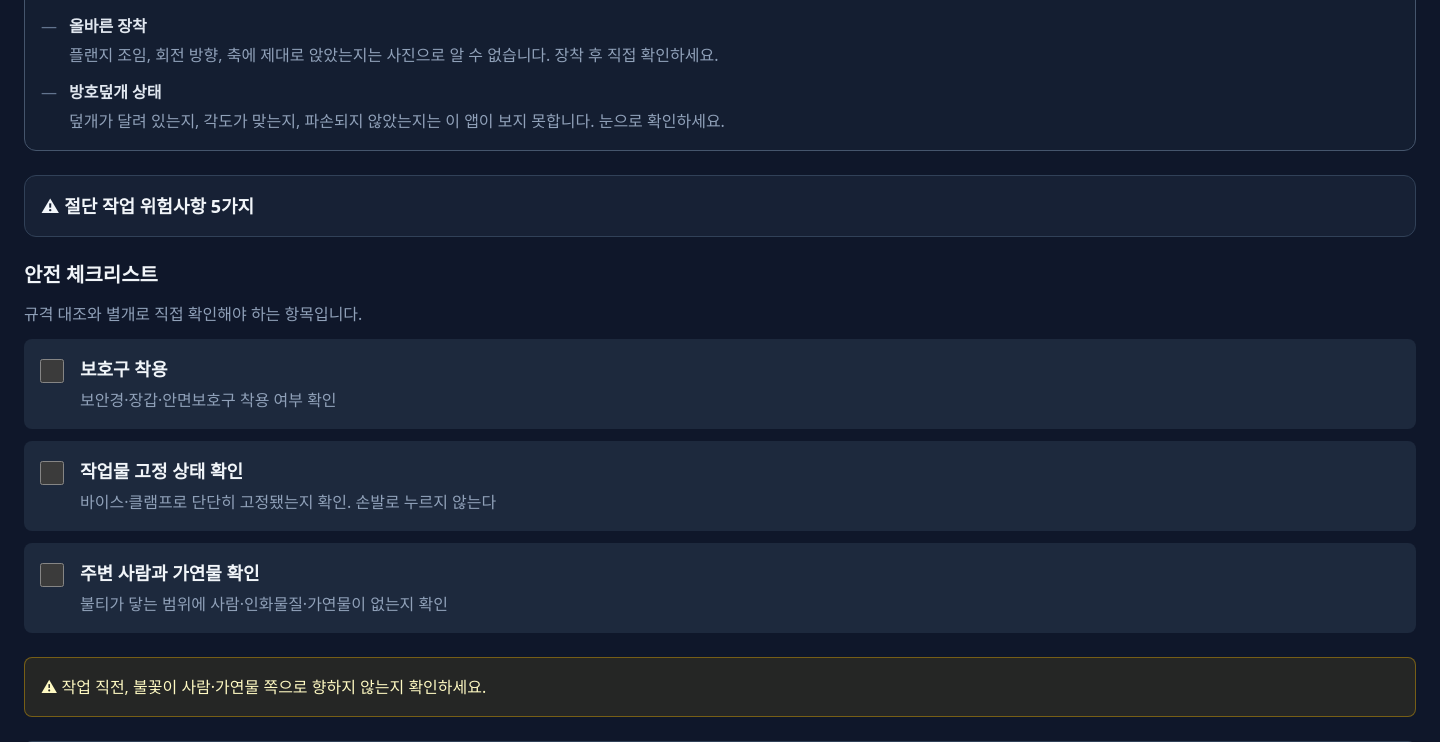
Test: 결과 화면 — 시험운전 절차 › 체크리스트를 마치면 숫돌 교체 여부를 묻는다
The width and height of the screenshot is (1440, 742).
(page scrolled)
Click the checkbox labelled "보호구 착용 보안경·장갑·안면보호구 착용 여부 확인": (52, 371) [40, 359, 64, 383]
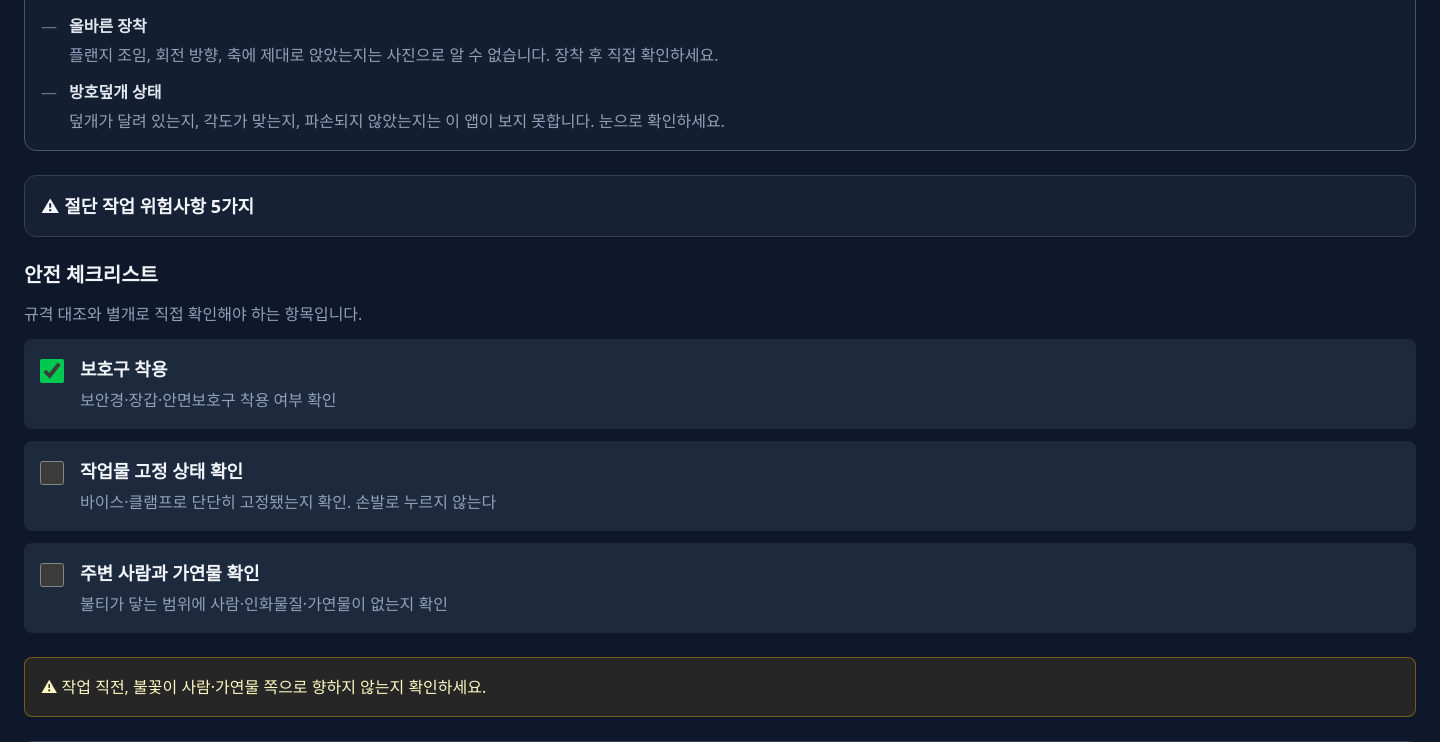
Click the checkbox labelled "작업물 고정 상태 확인 바이스·클램프로 단단히 고정됐는지 확인. 손발로 누르지 않는다": (52, 473) [40, 461, 64, 485]
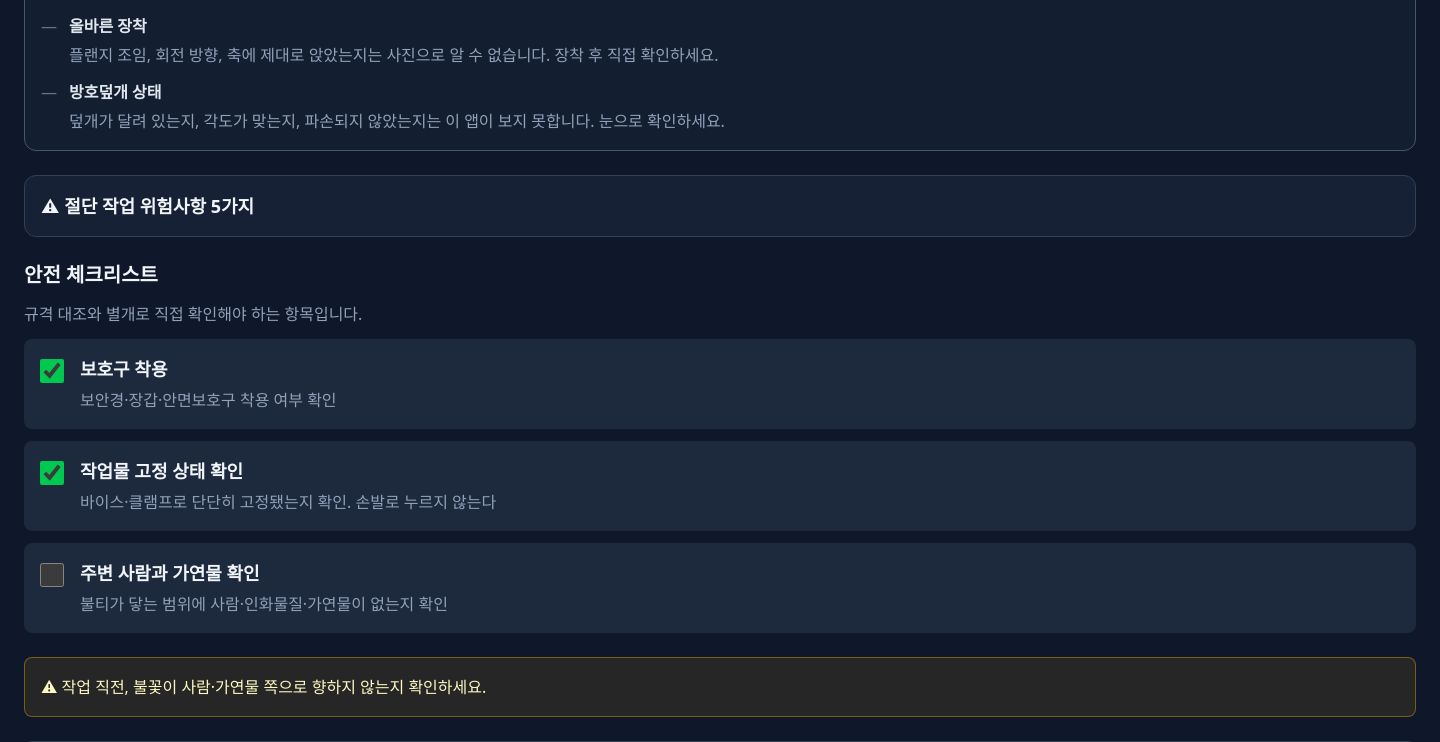
Click the checkbox labelled "주변 사람과 가연물 확인 불티가 닿는 범위에 사람·인화물질·가연물이 없는지 확인": (52, 575) [40, 563, 64, 587]
(page scrolled)
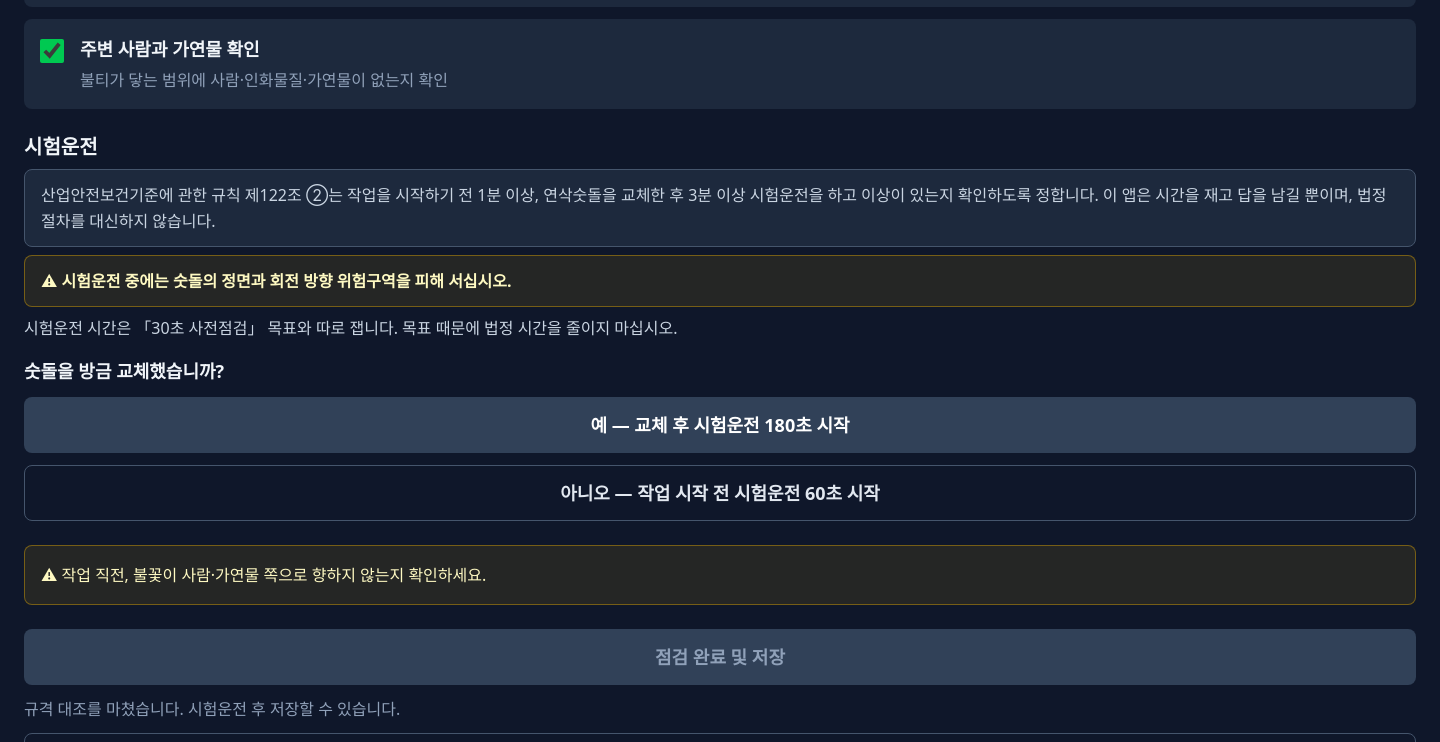
Now the heading "시험운전" is shown, box [24, 133, 98, 160]
Now the text "숫돌을 방금 교체했습니까?" is shown, box [24, 359, 224, 383]
